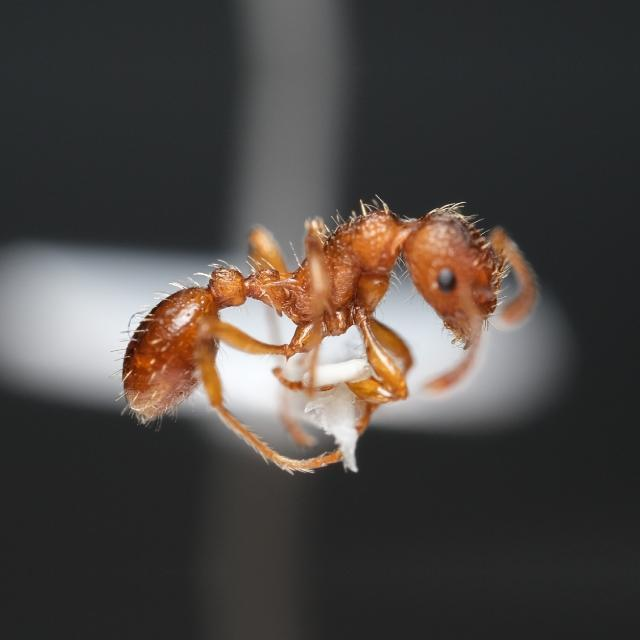Myrmica: (75, 150, 547, 446)
